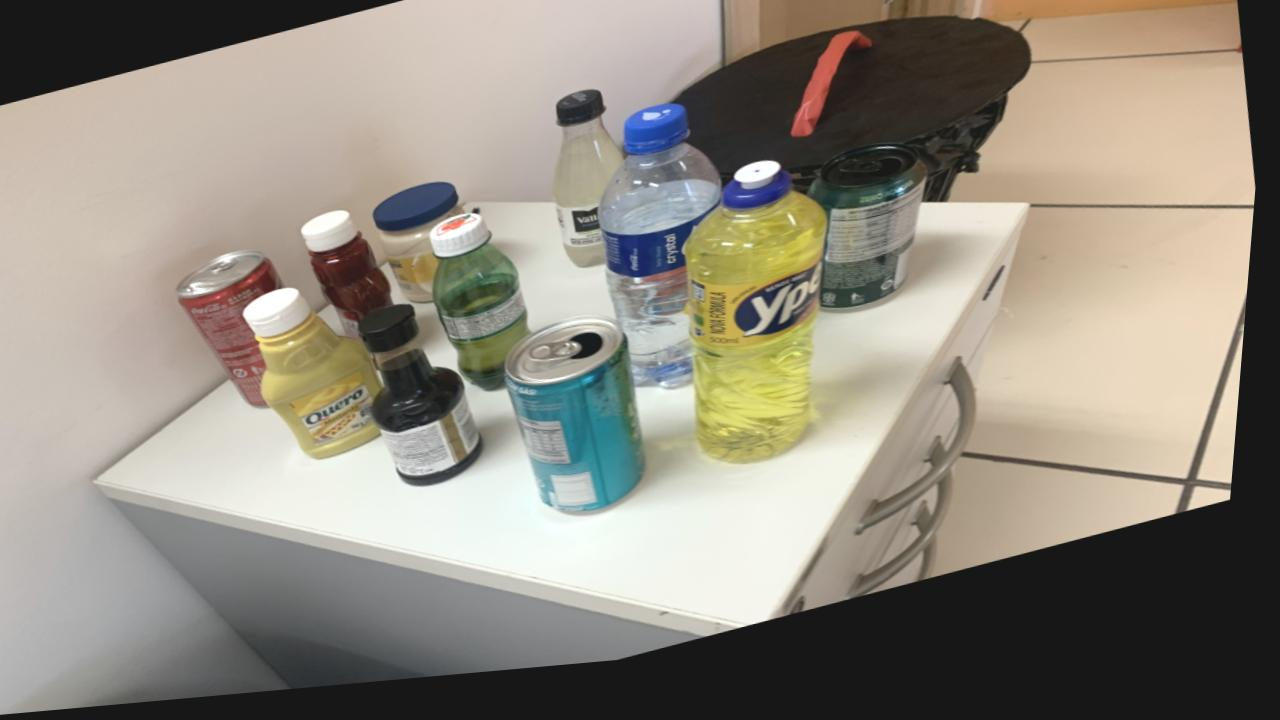Coke-Drinks: (182, 255, 287, 412)
Detergent-Cleanup_Items: (688, 174, 832, 477)
English_Sauce-Pantry_Items: (365, 312, 490, 494)
Guarana-Drinks: (434, 221, 535, 399)
Guarana_Can-Drinks: (812, 160, 931, 327)
Ketchup-Pantry_Items: (306, 216, 399, 346)
Mayonnaise-Pantry_Items: (376, 190, 468, 311)
Mustard-Pantry_Items: (249, 293, 388, 465)
Soda-Drinks: (555, 100, 626, 278)
Tea-Drinks: (511, 326, 654, 525)
Water_Bottle-Drinks: (601, 115, 725, 401)
